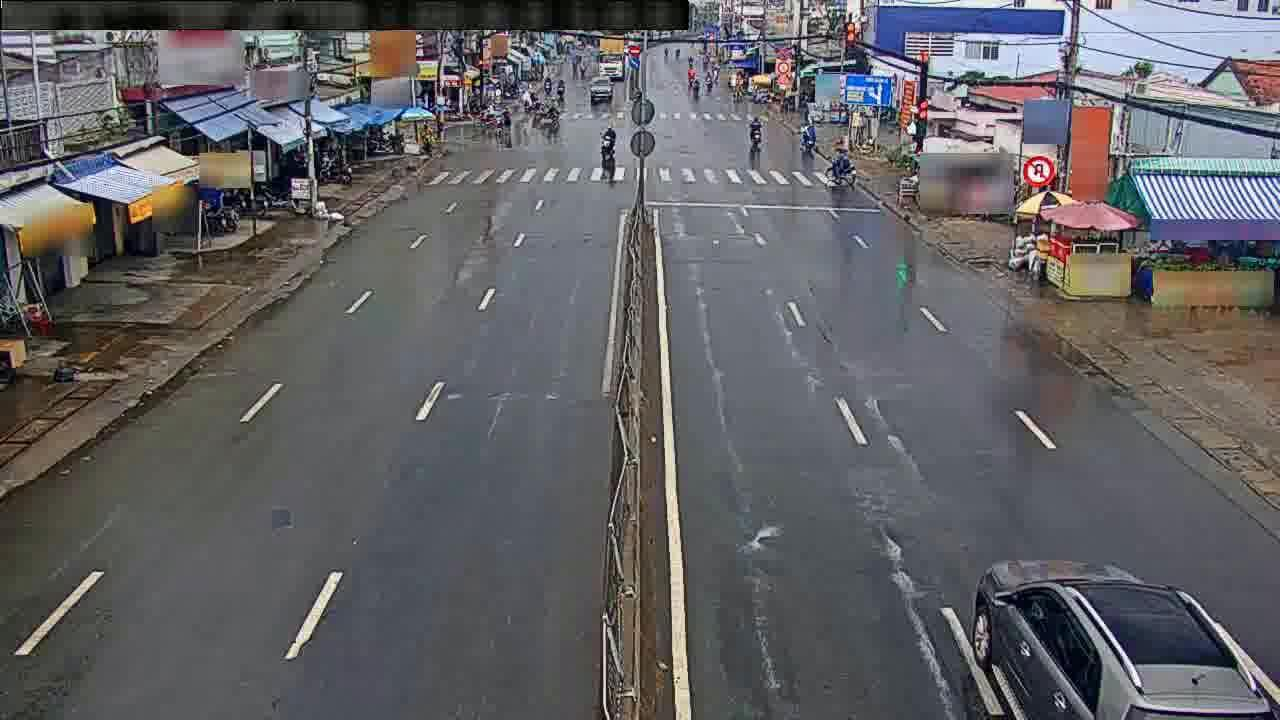container: (958, 539, 1251, 720)
motorbike: (823, 150, 855, 185), (742, 114, 770, 151), (795, 119, 822, 151), (600, 125, 617, 160)
